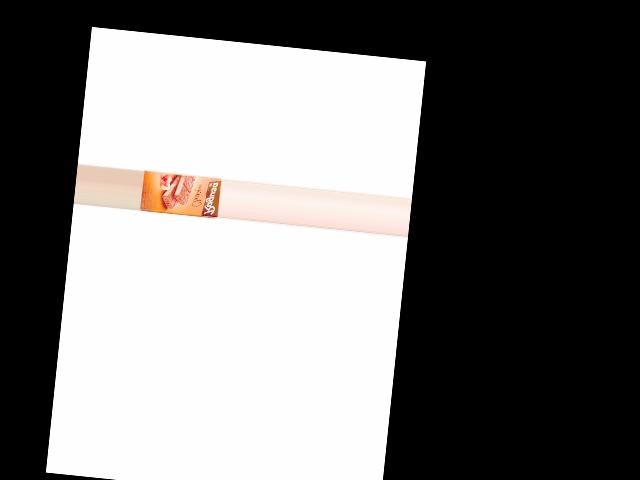chocolate: (138, 165, 221, 220)
